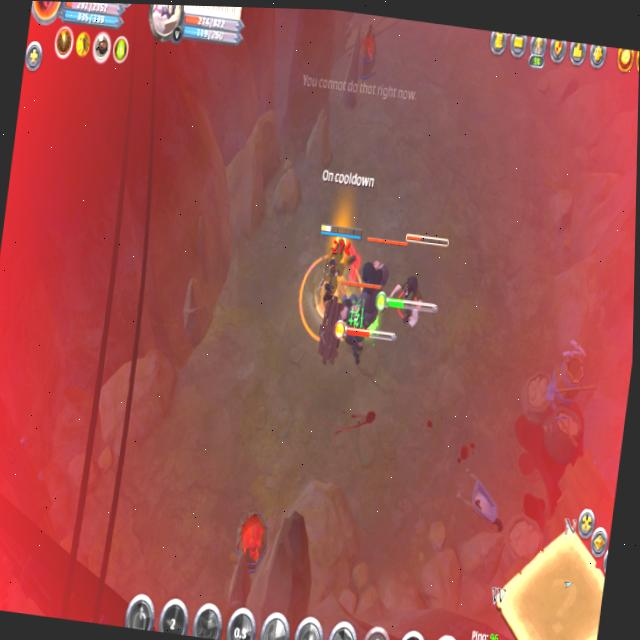ore: (313, 273, 382, 384), (383, 229, 453, 337), (344, 228, 407, 340)
red: (303, 213, 364, 320)
silver: (298, 246, 365, 354)
